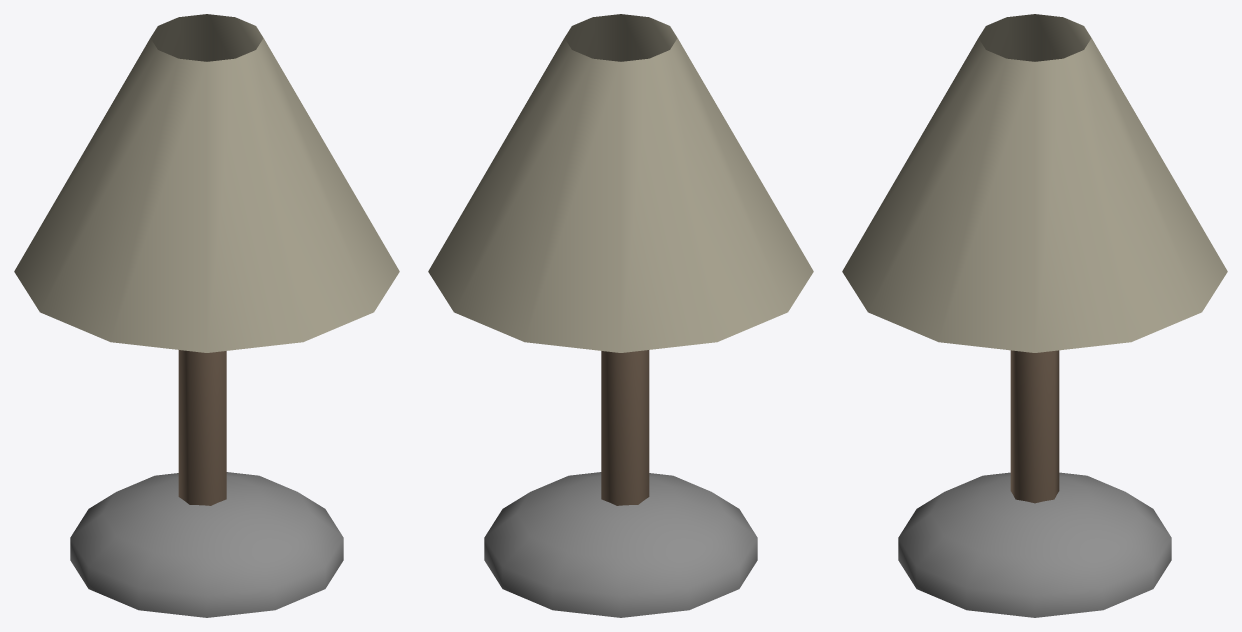
Rendered from Env_lamp.fbx.
The picture shows the model from 3 angles, left to right: view 1: azimuth 30°, elevation 25°; view 2: azimuth 150°, elevation 25°; view 3: azimuth 270°, elevation 25°; orthographic projection.
Visible parts, largest first — view 1: lamp; view 2: lamp; view 3: lamp.
Part boxes in pixels (<box>): lamp: <box>14,14,399,617</box>; lamp: <box>428,14,813,617</box>; lamp: <box>842,14,1227,617</box>.
Size of the model in its own units: 0.5638 by 0.8422 by 0.5638.
